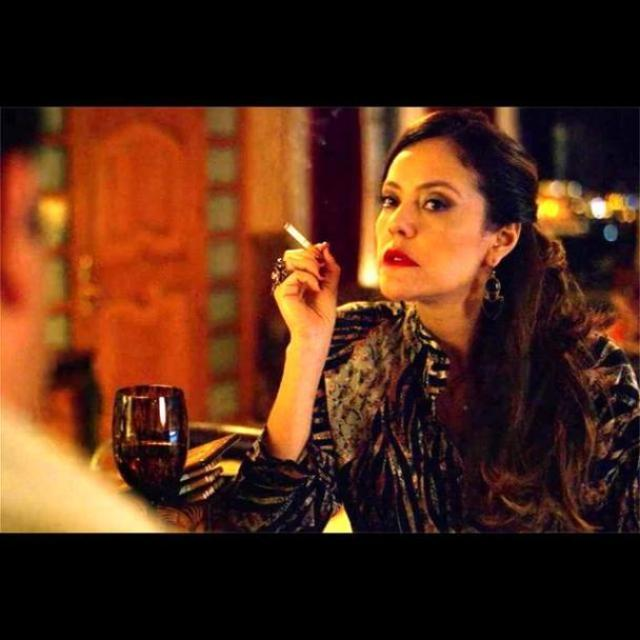rokok: (278, 219, 322, 257)
